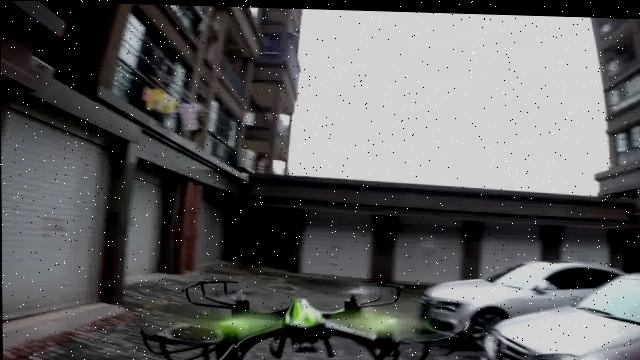drone: (133, 267, 467, 360)
